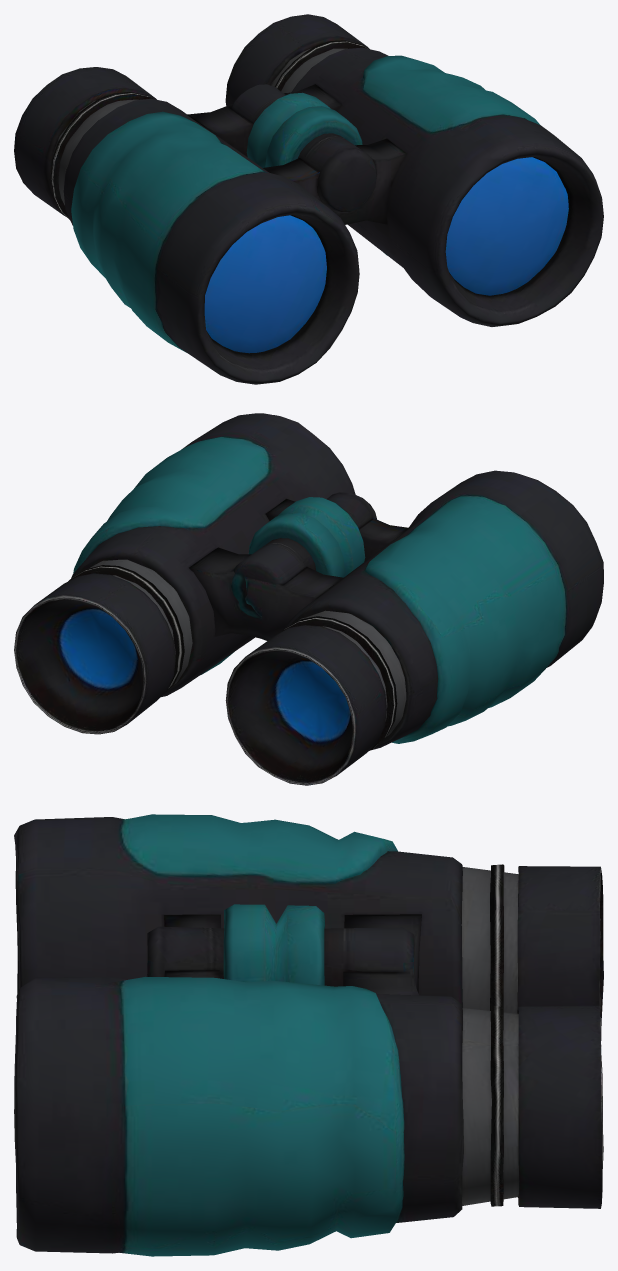
Rendered from binoculars.glb.
3 renders of one model, top to bottom at view 1: azimuth 30°, elevation 25°; view 2: azimuth 150°, elevation 25°; view 3: azimuth 270°, elevation 25°, orthographic. The views are drawn at different scales.
Visible parts, largest first — view 1: binoculars; view 2: binoculars; view 3: binoculars.
Boxes of the visible parts, box(x1,y1,x2,y2) form: binoculars: box(14, 14, 603, 384); binoculars: box(14, 413, 603, 785); binoculars: box(14, 814, 603, 1256).
Bounding box in the file's own units: 0.2 × 0.0882 × 0.1838.
Materials: 1 (1 with a texture image).
